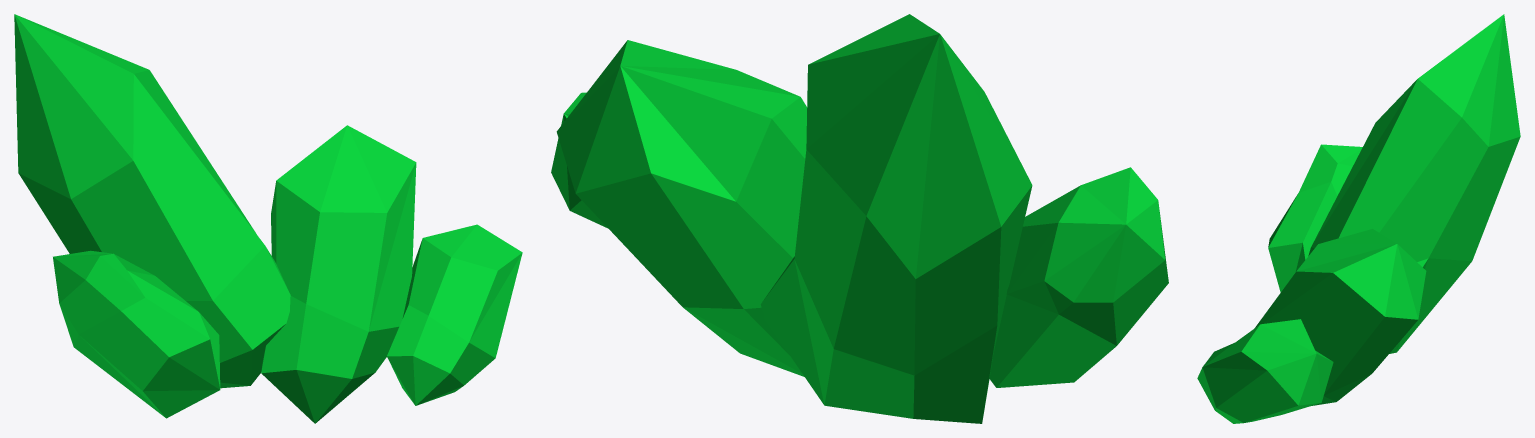
Rendered from ballcrystal 3.fbx.
3 renders of one model, left to right at view 1: azimuth 30°, elevation 25°; view 2: azimuth 150°, elevation 25°; view 3: azimuth 270°, elevation 25°, orthographic. The views are drawn at different scales.
Parts seen in each view (by area): view 1: ball crystal3; view 2: ball crystal3; view 3: ball crystal3.
Boxes of the visible parts, bbox=[...] form: ball crystal3: bbox=[14, 14, 522, 423]; ball crystal3: bbox=[551, 14, 1168, 423]; ball crystal3: bbox=[1197, 14, 1520, 423].
Bounding box in the file's own units: 53.61 × 42.89 × 40.67.
